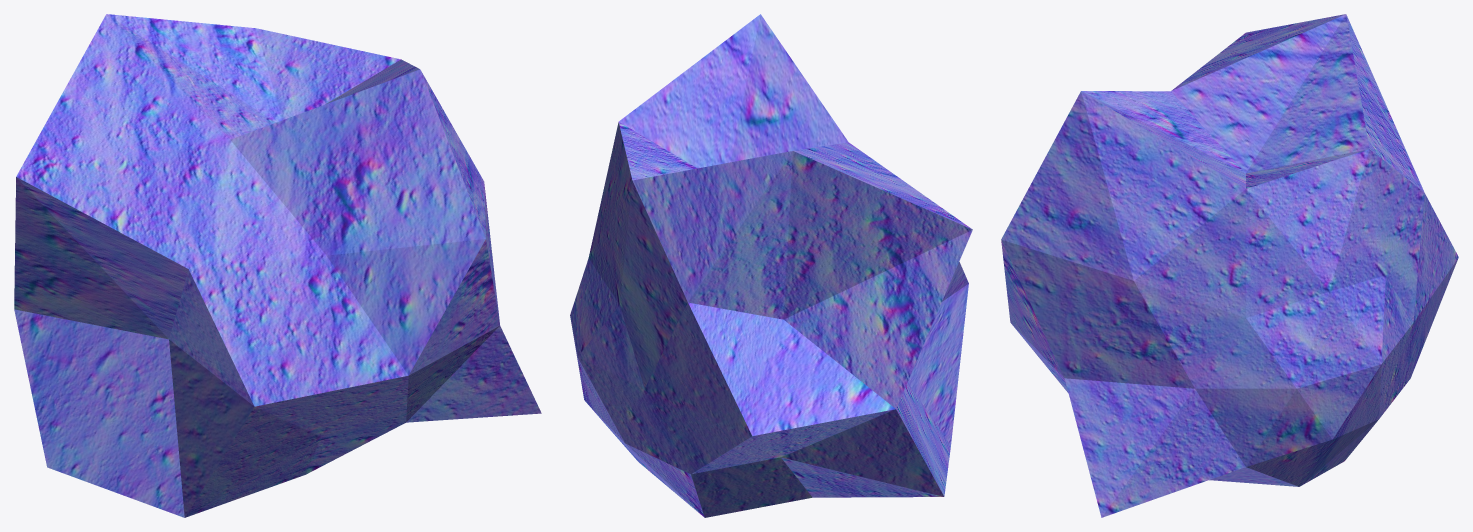
The model's file is smallasteroid18_LOD4.fbx.
The picture shows the model from 3 angles, left to right: view 1: azimuth 30°, elevation 25°; view 2: azimuth 150°, elevation 25°; view 3: azimuth 270°, elevation 25°; orthographic projection. The views are drawn at different scales.
Parts seen in each view (by area): view 1: Icosphere; view 2: Icosphere; view 3: Icosphere.
Part boxes in pixels (bbox=[...]): Icosphere: bbox=[14, 14, 541, 517]; Icosphere: bbox=[570, 14, 972, 517]; Icosphere: bbox=[1001, 14, 1458, 517].
Size of the model in its own units: 300 by 275 by 278.
